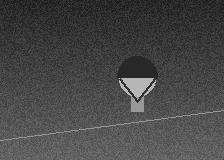helmet: (117, 56, 157, 101)
